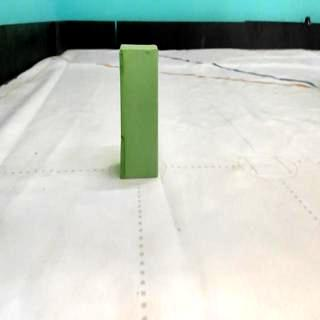greenbox: (119, 44, 159, 180)
